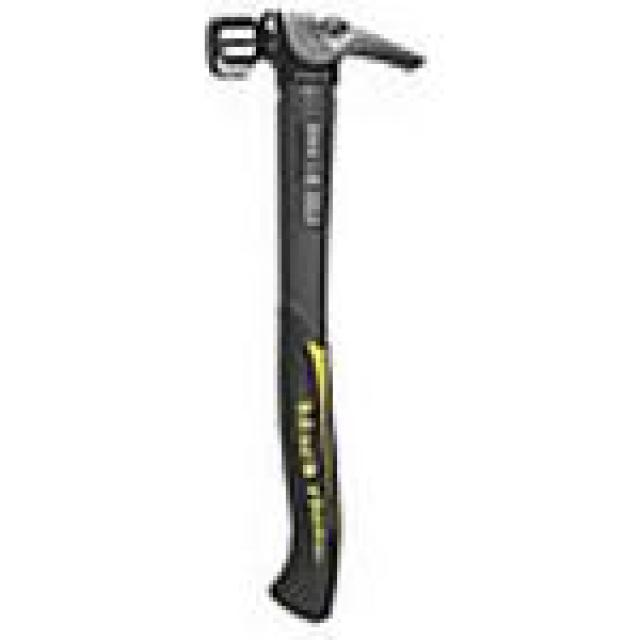hammer: (186, 1, 436, 625)
